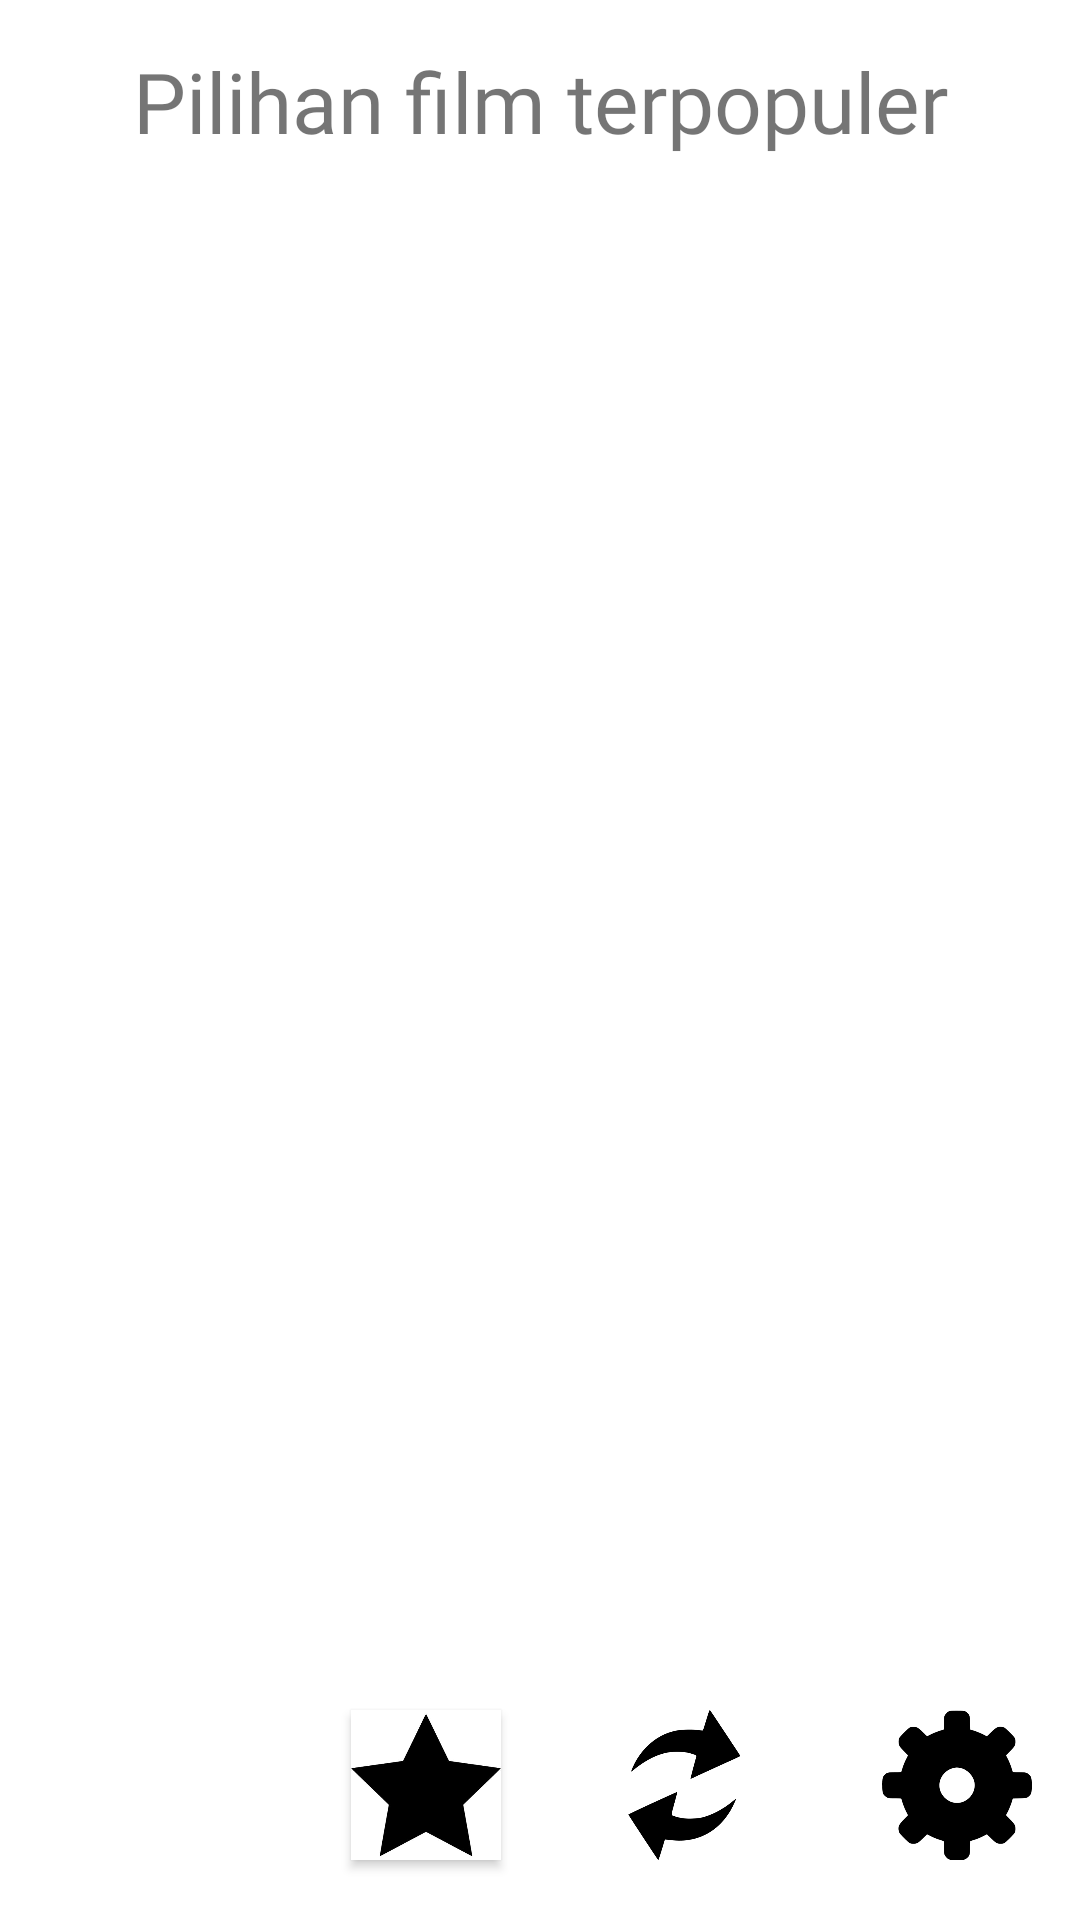

Where to tap for icons on this 1080x1920 app screen, as (x=x, y=y):
popular: (x=426, y=1785)
settings: (x=957, y=1785)
update: (x=684, y=1785)
